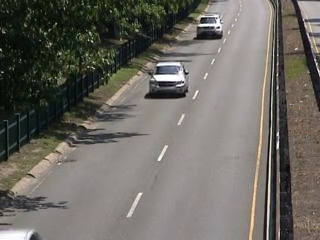car: (144, 59, 192, 103), (194, 12, 226, 41)
